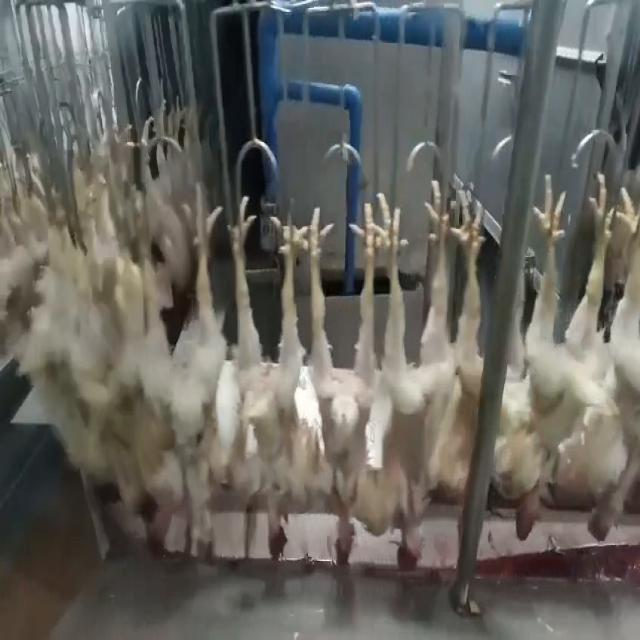chicken: (375, 155, 476, 575), (510, 163, 612, 546), (141, 181, 229, 558), (304, 194, 386, 571), (220, 197, 304, 565), (588, 183, 639, 545)
